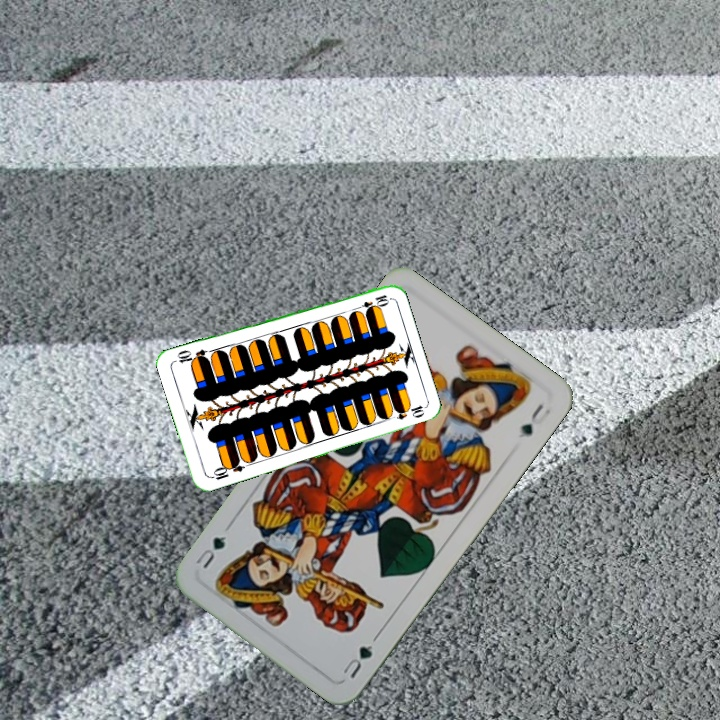E10: (206, 457, 246, 483), (351, 290, 391, 314)
GU: (337, 641, 376, 681)
